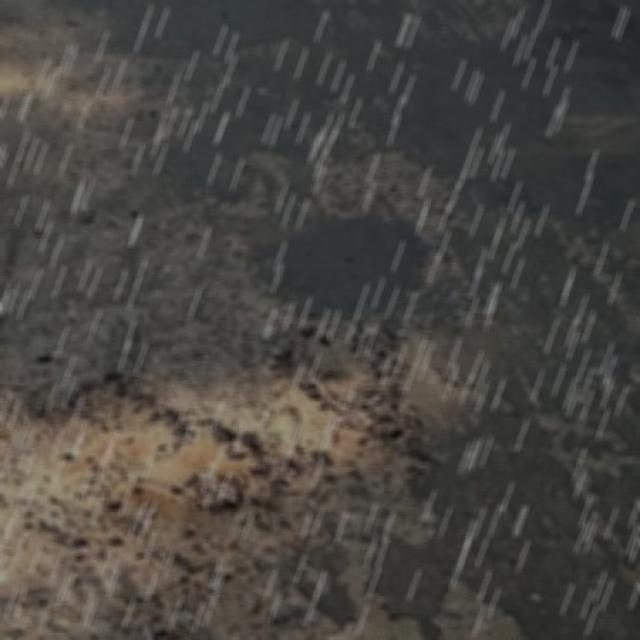road-pothole: (0, 308, 439, 639)
